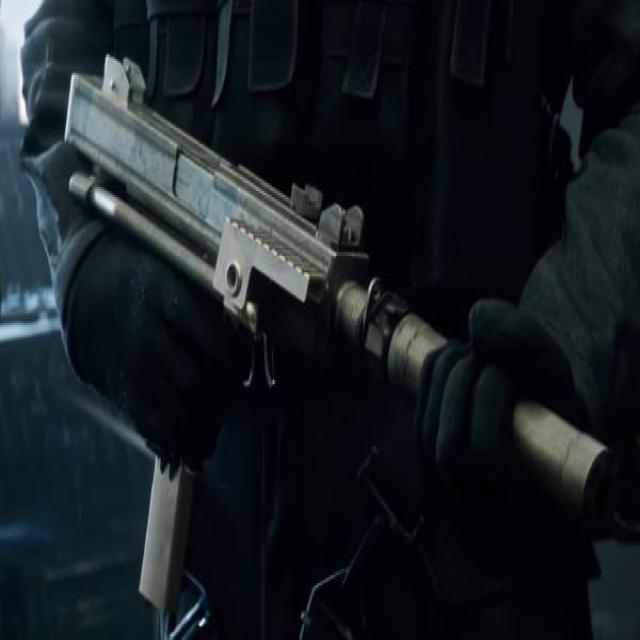weapon: (65, 51, 621, 622)
